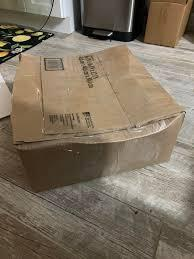damage_box: (7, 44, 187, 192)
